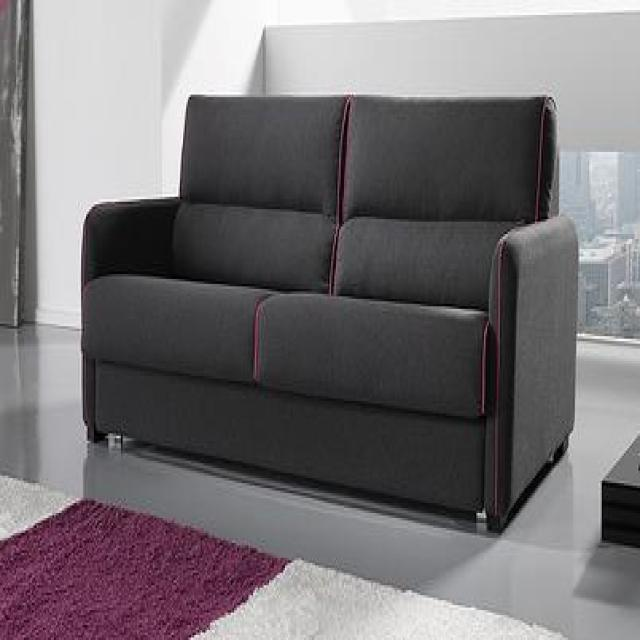sofa: (81, 90, 579, 538)
